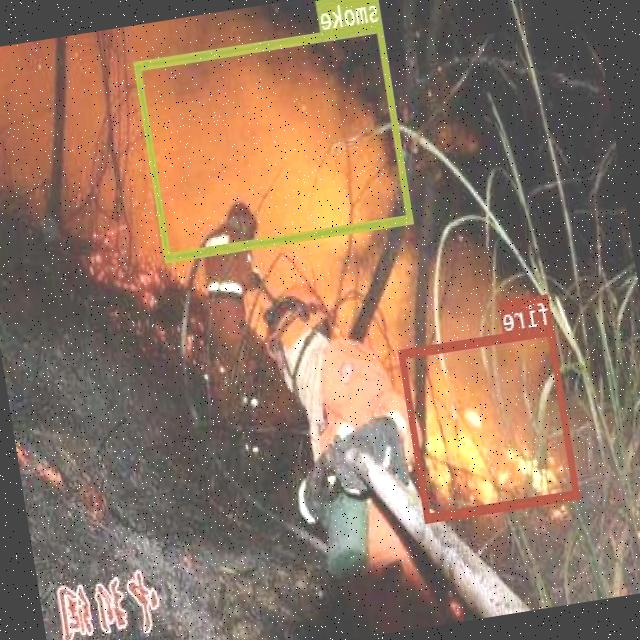fire: (400, 325, 580, 520)
smoke: (134, 21, 415, 260)
